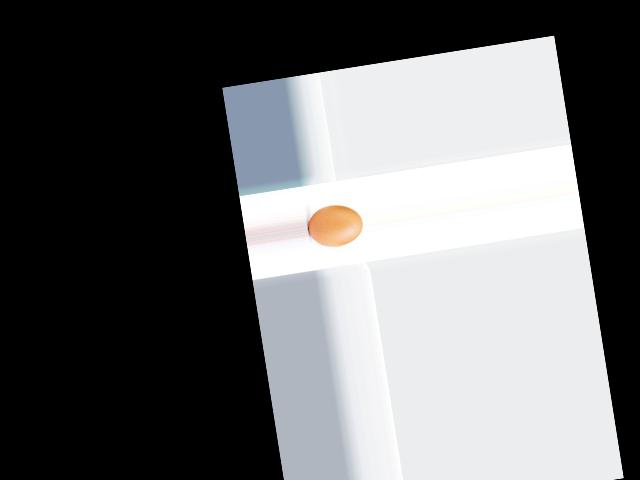egg: (305, 201, 364, 250)
